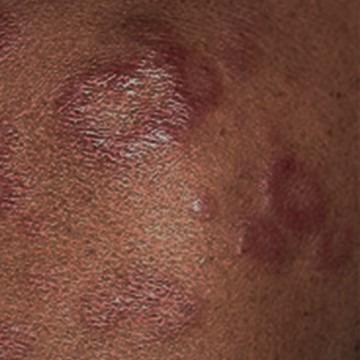Leprosy: (41, 24, 239, 168), (241, 151, 359, 289), (62, 256, 217, 350)
